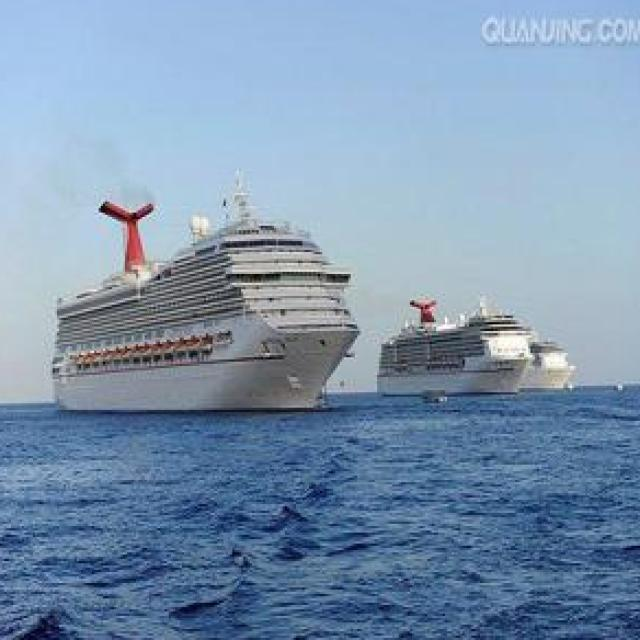passenger ship: (40, 170, 363, 415), (370, 280, 536, 397), (520, 323, 576, 393)
